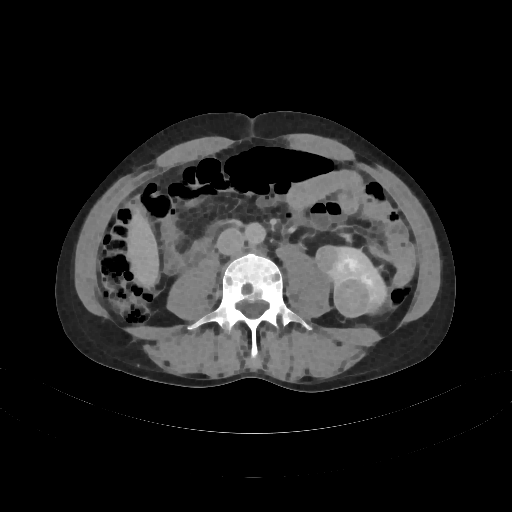Lesion: (314, 244, 343, 275)
